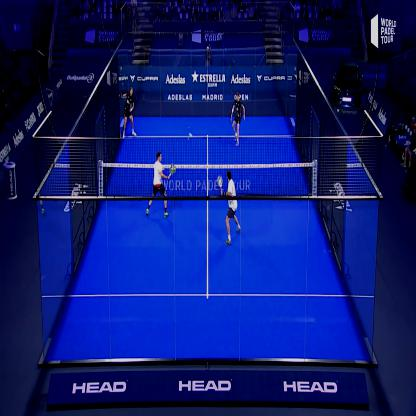ball: (188, 127, 194, 141)
